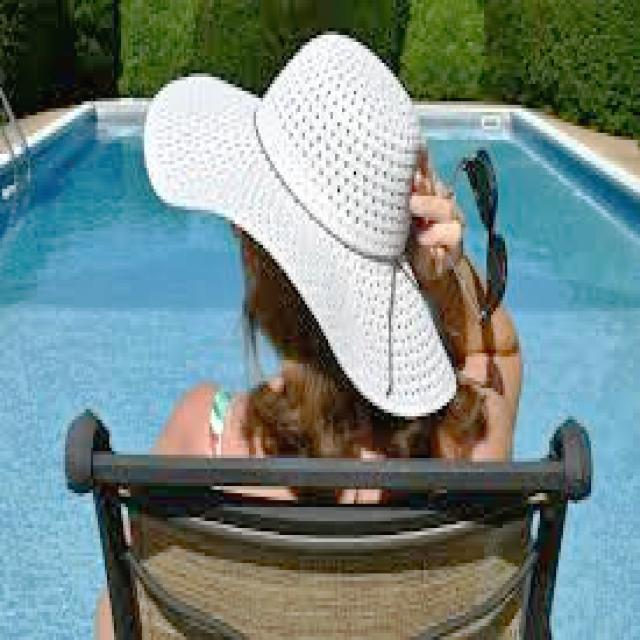TOPI: (140, 25, 456, 416)
